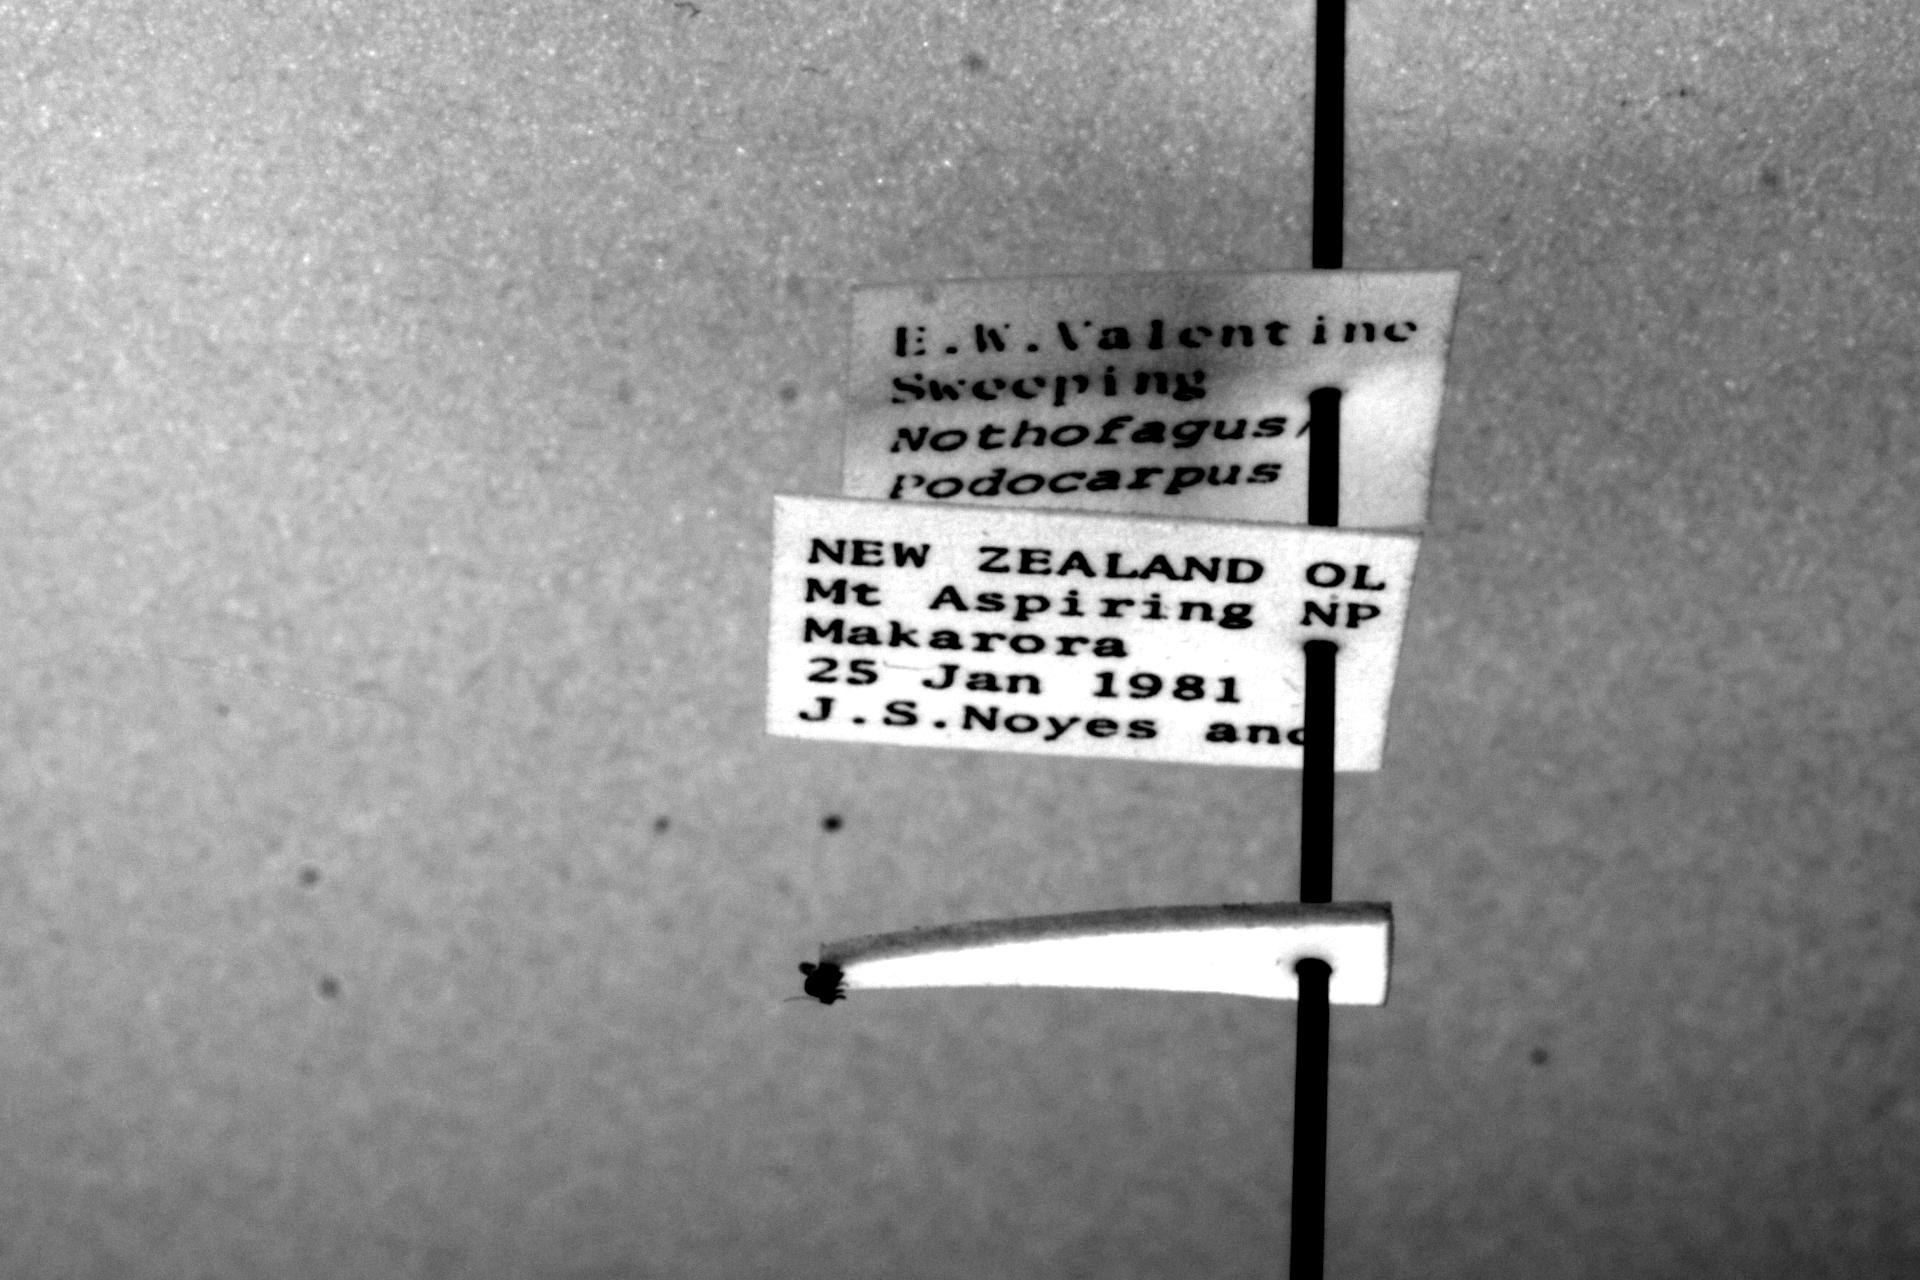typed_label: (769, 494, 1417, 773), (844, 270, 1459, 529)
